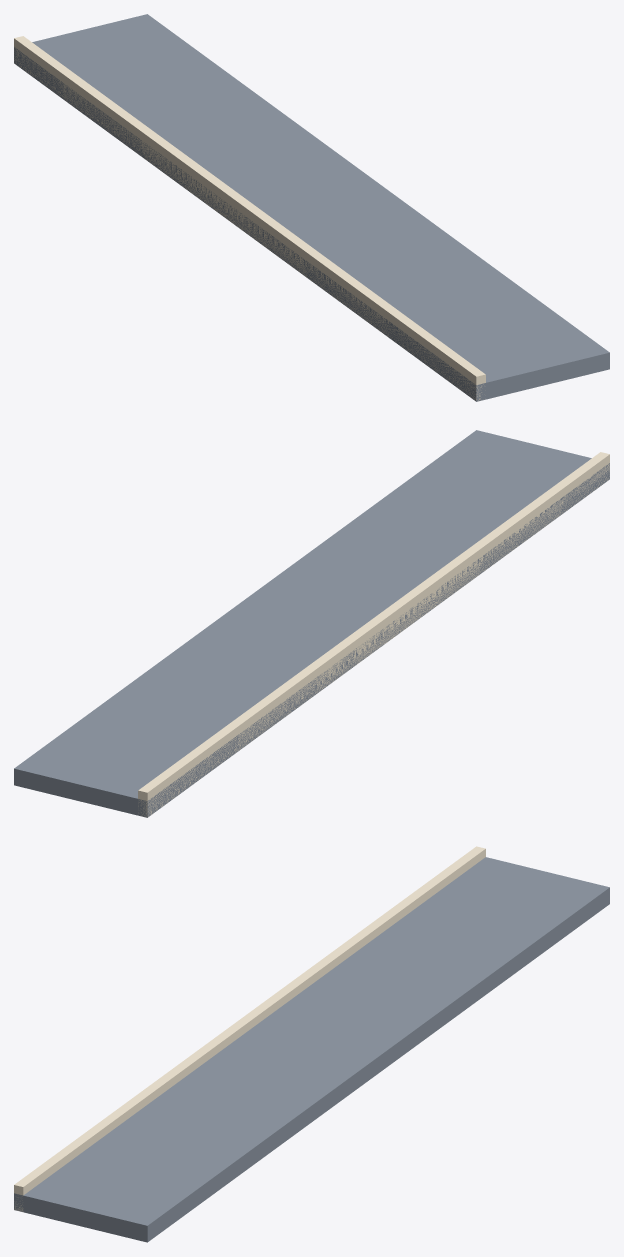
Rendered from sidewalk_segment.obj.
The picture shows the model from 3 angles, top to bottom: view 1: azimuth 30°, elevation 25°; view 2: azimuth 150°, elevation 25°; view 3: azimuth 330°, elevation 25°; orthographic projection.
Parts seen in each view (by area): view 1: part_0, part_1; view 2: part_0, part_1; view 3: part_0, part_1.
Part boxes in pixels (x1,y1,x2,y2): part_0: [14, 14, 609, 401]; part_1: [14, 36, 485, 400]; part_0: [14, 430, 609, 817]; part_1: [138, 452, 609, 816]; part_0: [14, 857, 609, 1242]; part_1: [14, 846, 485, 1211].
Bounding box in the file's own units: 2 × 0.36 × 12.
